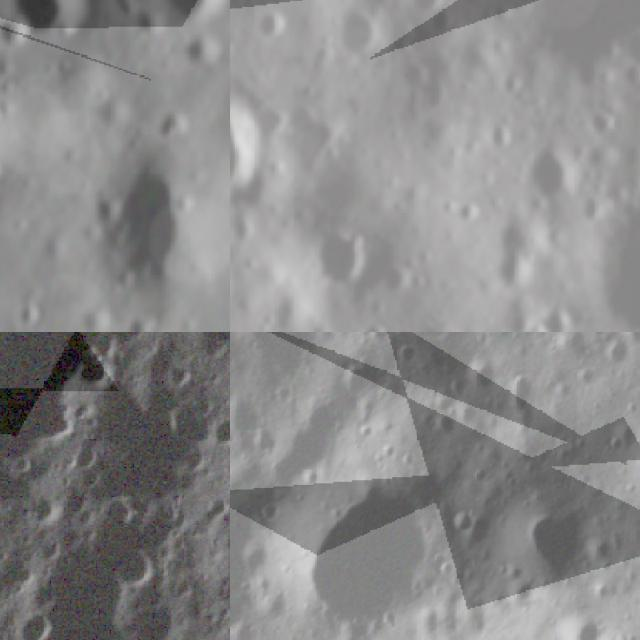crater: (276, 475, 442, 640), (567, 175, 640, 332), (500, 498, 605, 598), (230, 66, 291, 231), (298, 213, 392, 312), (506, 132, 594, 219), (326, 0, 397, 72), (11, 0, 103, 49), (107, 542, 163, 597), (68, 349, 125, 400), (375, 256, 422, 306), (251, 1, 296, 51), (164, 0, 230, 32), (230, 390, 268, 442), (560, 605, 615, 640), (595, 421, 640, 462), (185, 29, 230, 69), (12, 603, 59, 640), (396, 0, 460, 26), (600, 333, 634, 378), (163, 356, 201, 394), (208, 513, 230, 575), (542, 372, 579, 407), (12, 297, 46, 332), (422, 414, 460, 445), (160, 108, 192, 144), (515, 310, 566, 332), (469, 361, 504, 392), (340, 358, 371, 392), (170, 188, 203, 219), (209, 413, 230, 458), (357, 312, 403, 332), (110, 0, 148, 24), (128, 306, 162, 332), (577, 360, 602, 390), (85, 310, 118, 332), (458, 502, 480, 531), (628, 500, 640, 544), (397, 341, 417, 363), (0, 153, 7, 186)
